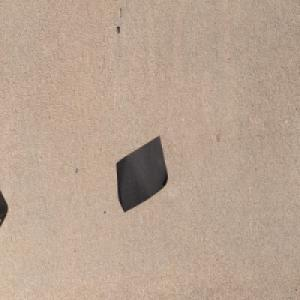PaintChip: (115, 133, 168, 213)
